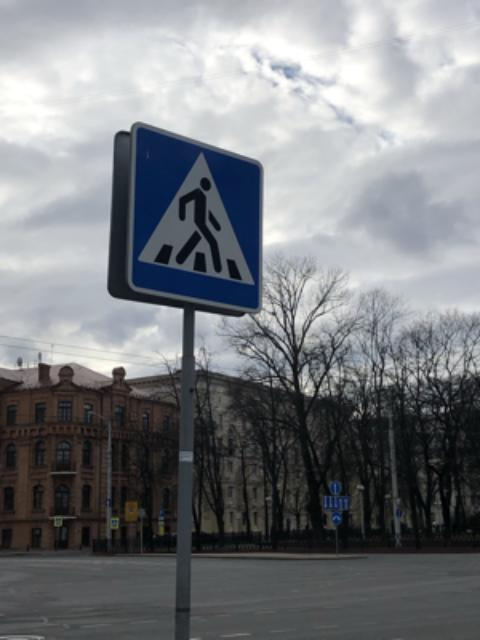crosswalk-sign: (108, 120, 266, 318)
